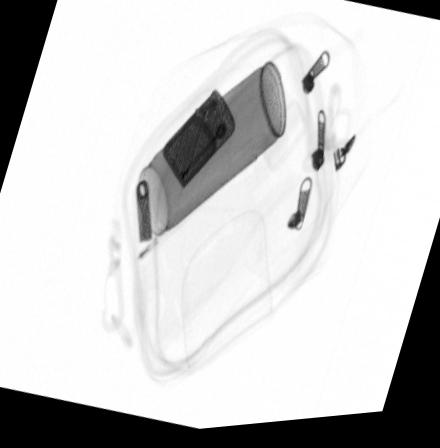Lighter: (161, 92, 237, 194)
